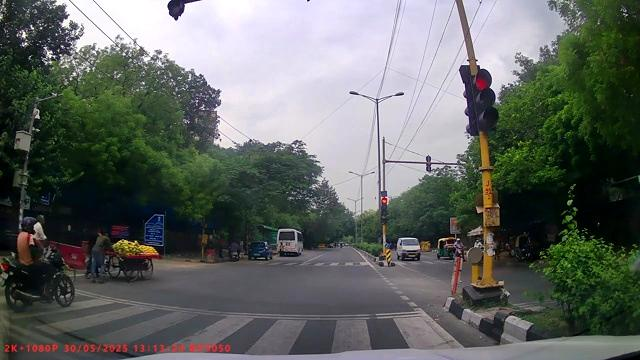motorcycle_with_helmet: (1, 214, 75, 310)
